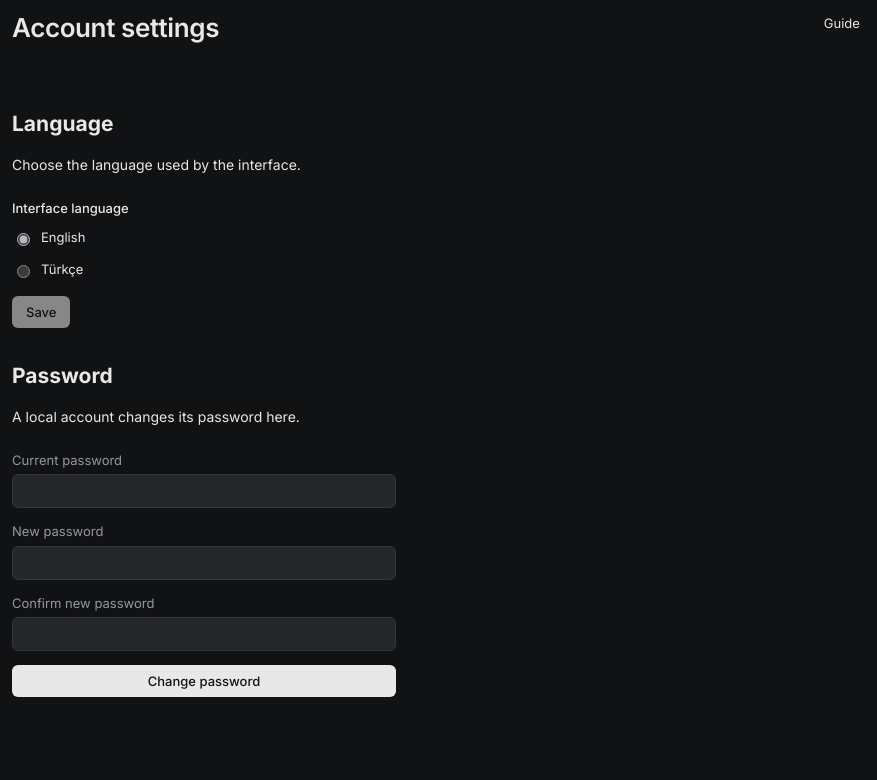
Test case: account language preference › leaves the cookie and selected language unchanged on failure
Click the radio button labelled "Türkçe" at (24, 272), box [17,265,30,278]
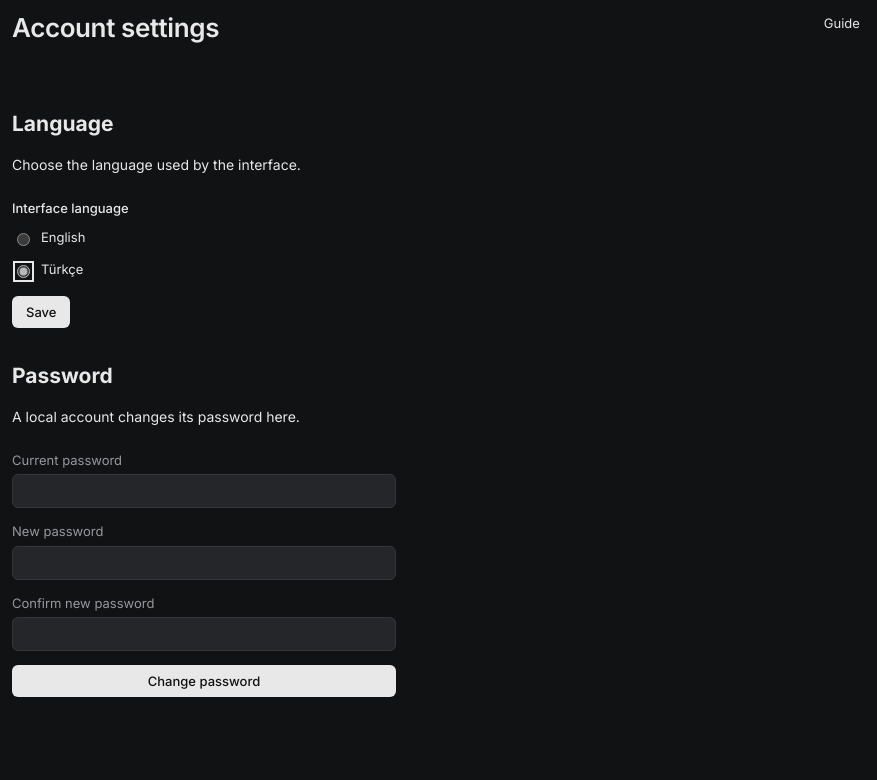
Click the button "Save" at (41, 312), box [12,296,70,328]
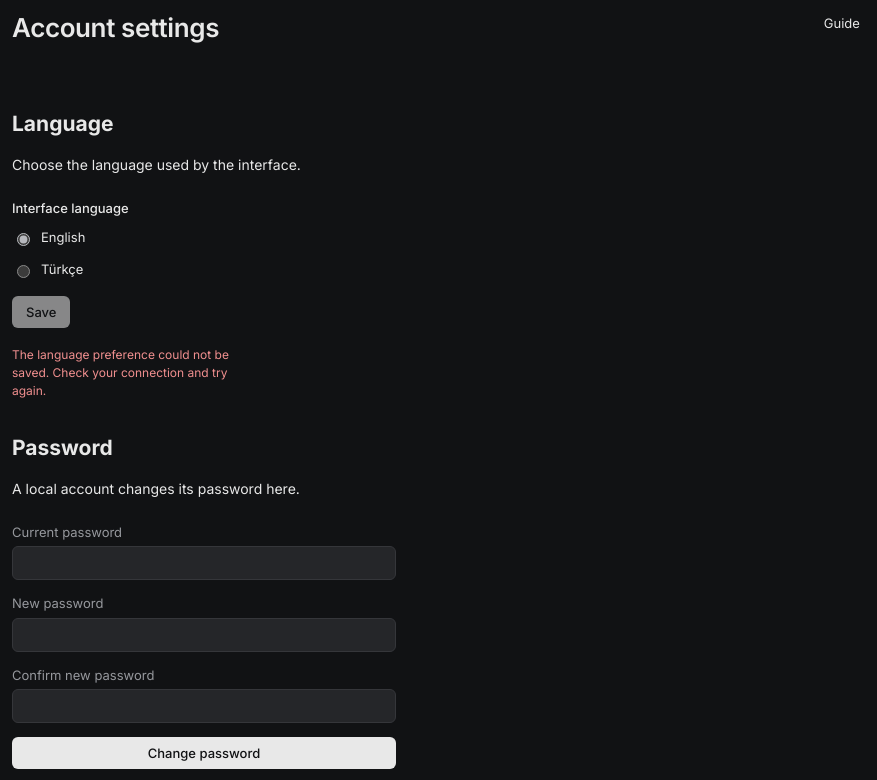
Expected: the message shows "could not be saved", [12,347,229,398]
Expected: the radio button labelled "English" is checked, [17,233,30,246]
